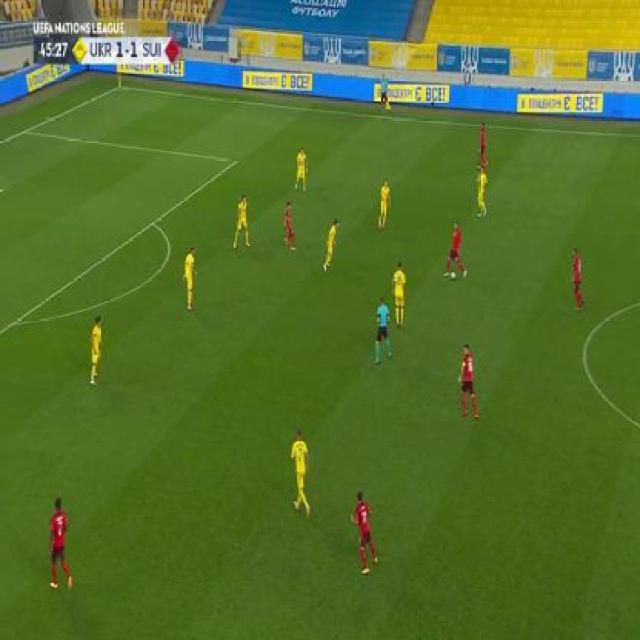ball: (450, 270, 456, 279)
player: (348, 489, 381, 577), (45, 495, 73, 595), (289, 426, 312, 515), (455, 342, 480, 421), (444, 219, 467, 279), (568, 245, 587, 313), (373, 295, 392, 363), (87, 315, 104, 386), (390, 261, 407, 329), (232, 194, 252, 251), (182, 245, 199, 310), (321, 218, 340, 274), (476, 152, 490, 217), (376, 178, 392, 232), (281, 200, 297, 251), (293, 145, 309, 193), (476, 121, 489, 177), (378, 71, 392, 116)
